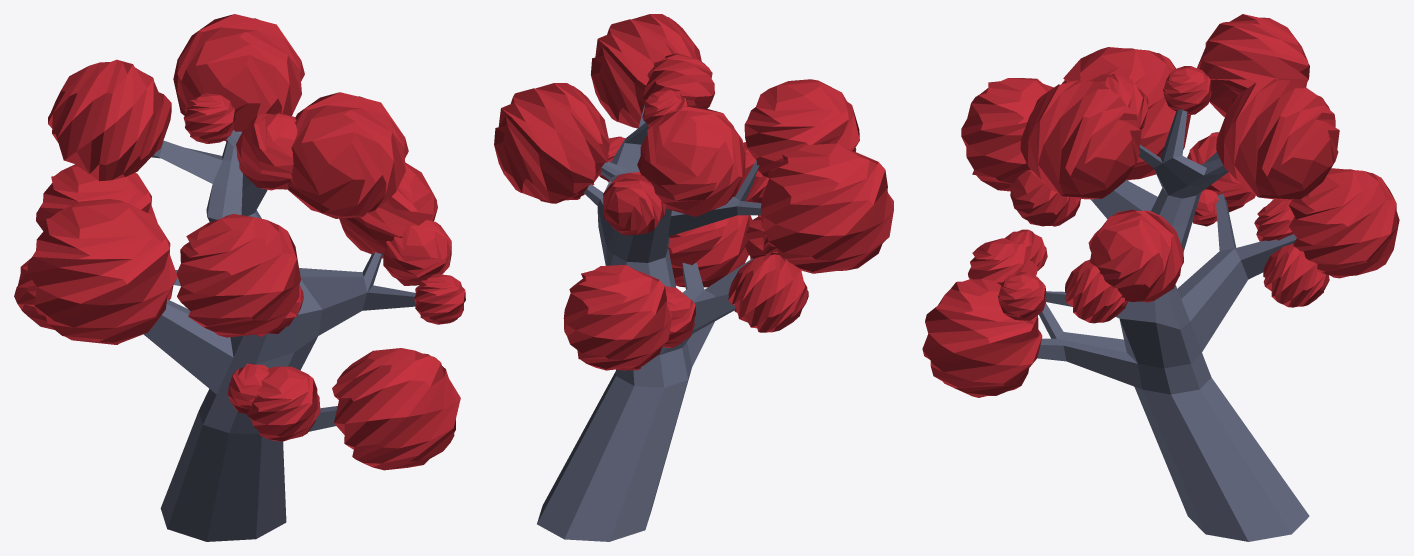
File: tree2.fbx
3 renders of one model, left to right at view 1: azimuth 30°, elevation 25°; view 2: azimuth 150°, elevation 25°; view 3: azimuth 270°, elevation 25°, orthographic. The views are drawn at different scales.
Parts seen in each view (by area): view 1: Cylinder, Cube.005, Cube.006, Cube.010, Cube.015, Cube.018, Cube.019, Cube.009, Cube.012, Cube.014, Cube, Cube.013 (+4 smaller); view 2: Cylinder, Cube.005, Cube.019, Cube, Cube.018, Cube.006, Cube.015, Cube.003, Cube.010, Cube.017, Cube.014, Cube.001 (+3 smaller); view 3: Cylinder, Cube.019, Cube.015, Cube.010, Cube, Cube.018, Cube.012, Cube.006, Cube.005, Cube.002, Cube.013, Cube.007 (+8 smaller).
Part boxes in pixels (x1=…): Cylinder: x1=144, y1=130, x2=415, y2=541; Cube.005: x1=27, y1=199, x2=177, y2=344; Cube.006: x1=176, y1=214, x2=300, y2=337; Cube.010: x1=332, y1=348, x2=460, y2=470; Cube.015: x1=287, y1=92, x2=408, y2=218; Cube.018: x1=48, y1=59, x2=171, y2=181; Cube.019: x1=173, y1=14, x2=304, y2=141; Cube.009: x1=247, y1=366, x2=320, y2=441; Cube.012: x1=339, y1=162, x2=437, y2=258; Cube.014: x1=236, y1=112, x2=297, y2=190; Cube: x1=36, y1=164, x2=157, y2=230; Cube.013: x1=383, y1=219, x2=451, y2=285; Cylinder: x1=537, y1=105, x2=761, y2=541; Cube.005: x1=760, y1=143, x2=893, y2=273; Cube.019: x1=494, y1=83, x2=609, y2=201; Cube: x1=563, y1=264, x2=671, y2=370; Cube.018: x1=637, y1=105, x2=745, y2=216; Cube.006: x1=744, y1=79, x2=859, y2=177; Cube.015: x1=590, y1=14, x2=701, y2=128; Cube.003: x1=728, y1=254, x2=808, y2=332; Cube.010: x1=668, y1=215, x2=752, y2=287; Cube.017: x1=603, y1=172, x2=666, y2=235; Cube.014: x1=643, y1=53, x2=714, y2=108; Cube.001: x1=662, y1=286, x2=696, y2=347; Cylinder: x1=1037, y1=109, x2=1309, y2=541; Cube.019: x1=1216, y1=79, x2=1339, y2=200; Cube.015: x1=1020, y1=80, x2=1141, y2=199; Cube.010: x1=922, y1=279, x2=1042, y2=397; Cube: x1=1288, y1=168, x2=1399, y2=278; Cube.018: x1=1197, y1=14, x2=1309, y2=116; Cube.012: x1=1088, y1=209, x2=1183, y2=302; Cube.006: x1=961, y1=78, x2=1053, y2=191; Cube.005: x1=1061, y1=47, x2=1190, y2=180; Cube.002: x1=1263, y1=243, x2=1329, y2=307; Cube.013: x1=1065, y1=259, x2=1127, y2=323; Cube.007: x1=1010, y1=170, x2=1080, y2=226.
Size of the model in its own units: 863 by 987 by 954.
